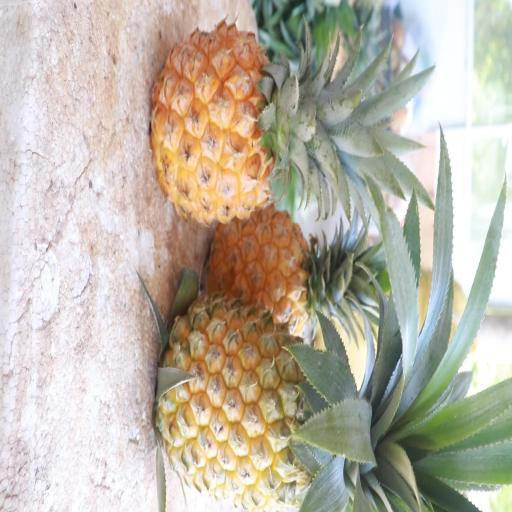Pineapple - v8 v1: (155, 293, 387, 511), (149, 19, 356, 225), (207, 196, 380, 341)
